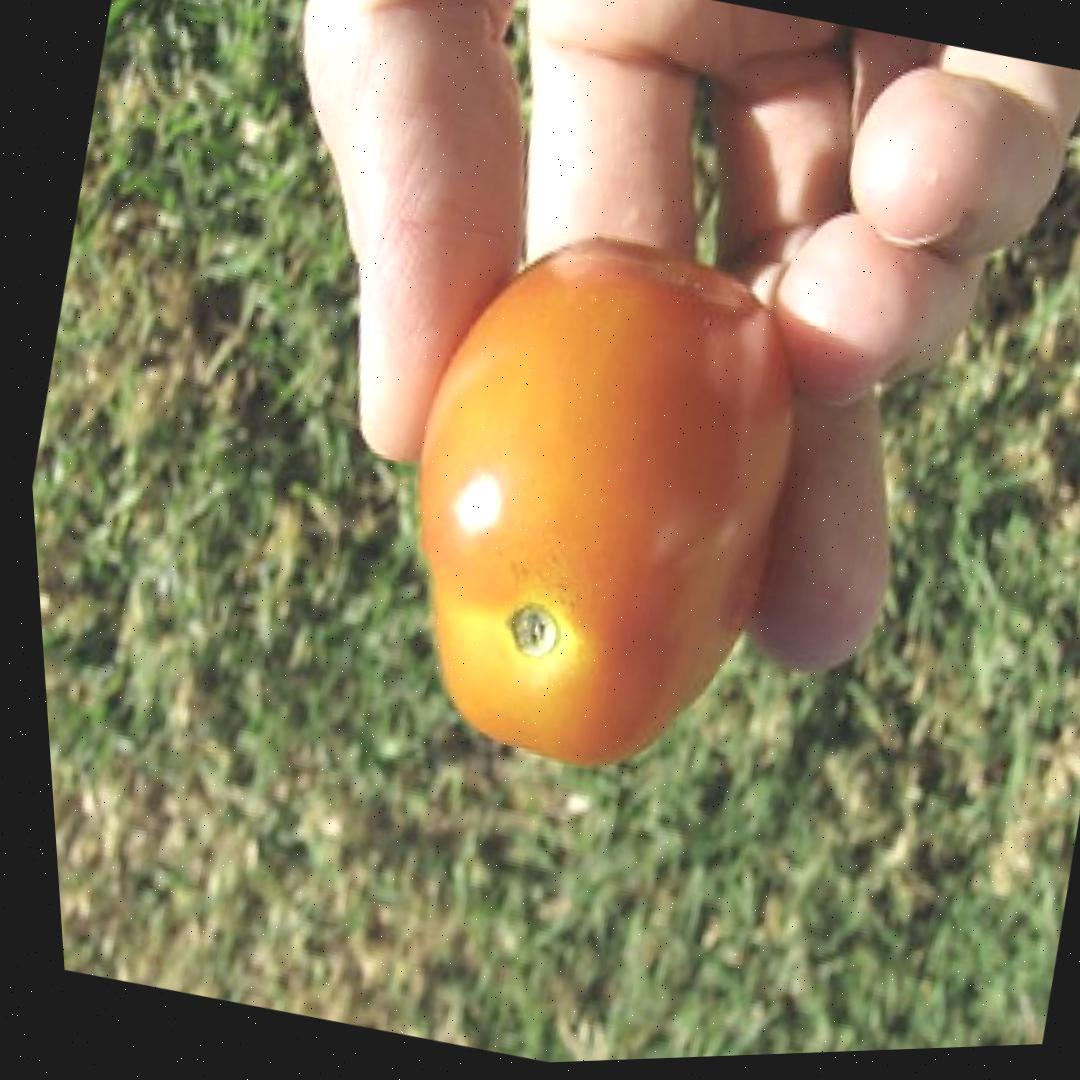matang: (335, 193, 852, 811)
